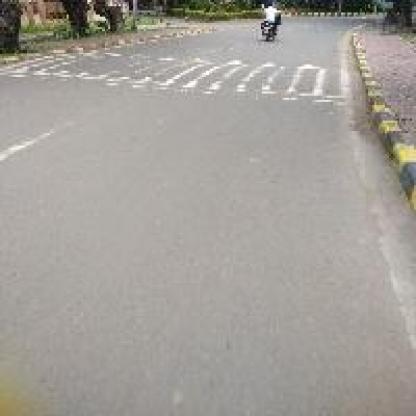Speed Bump: (2, 48, 339, 102)
